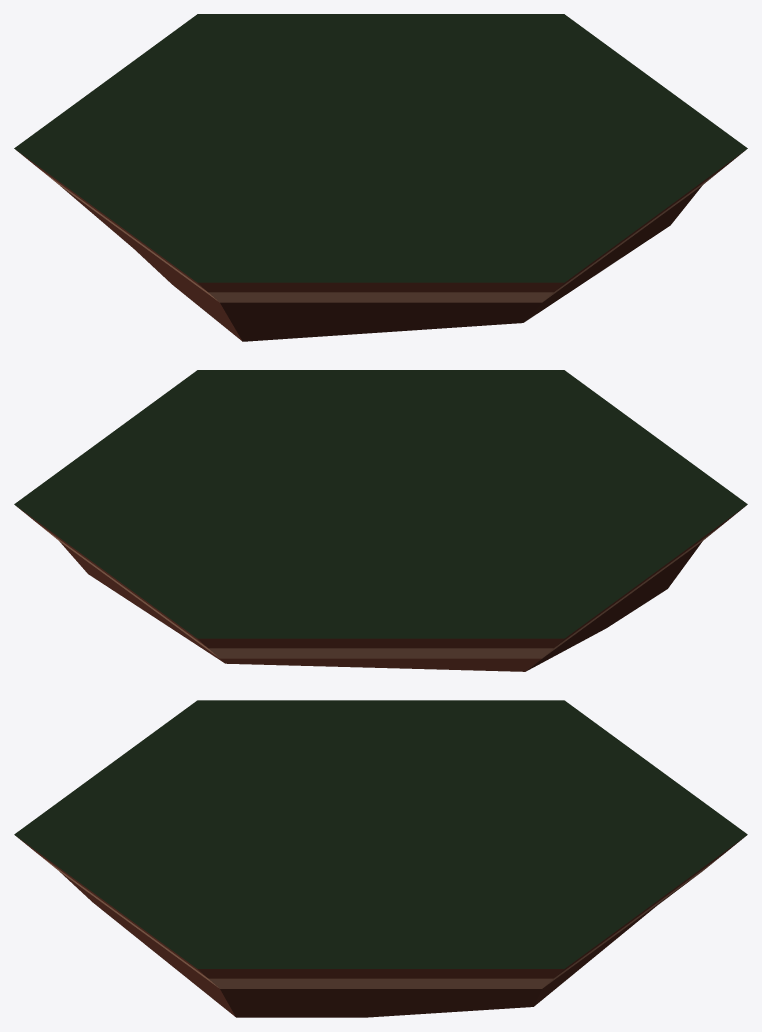
3 renders of one model, top to bottom at view 1: azimuth 30°, elevation 25°; view 2: azimuth 150°, elevation 25°; view 3: azimuth 270°, elevation 25°, orthographic.
Parts seen in each view (by area): view 1: Cylinder; view 2: Cylinder; view 3: Cylinder.
Boxes of the visible parts, x1=… form: Cylinder: x1=14, y1=14, x2=747, y2=341; Cylinder: x1=14, y1=370, x2=747, y2=671; Cylinder: x1=14, y1=700, x2=747, y2=1017.
Size of the model in its own units: 1918 by 478 by 2215.
